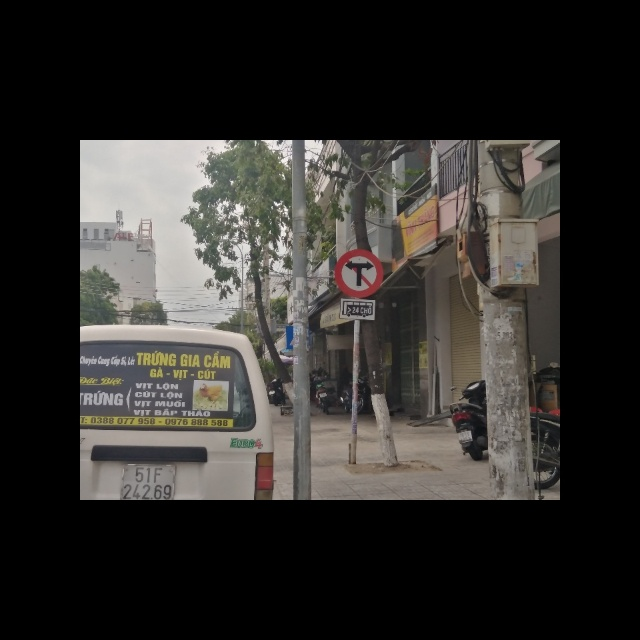Cấm rẽ trái và rẽ phải: (333, 250, 384, 299)
